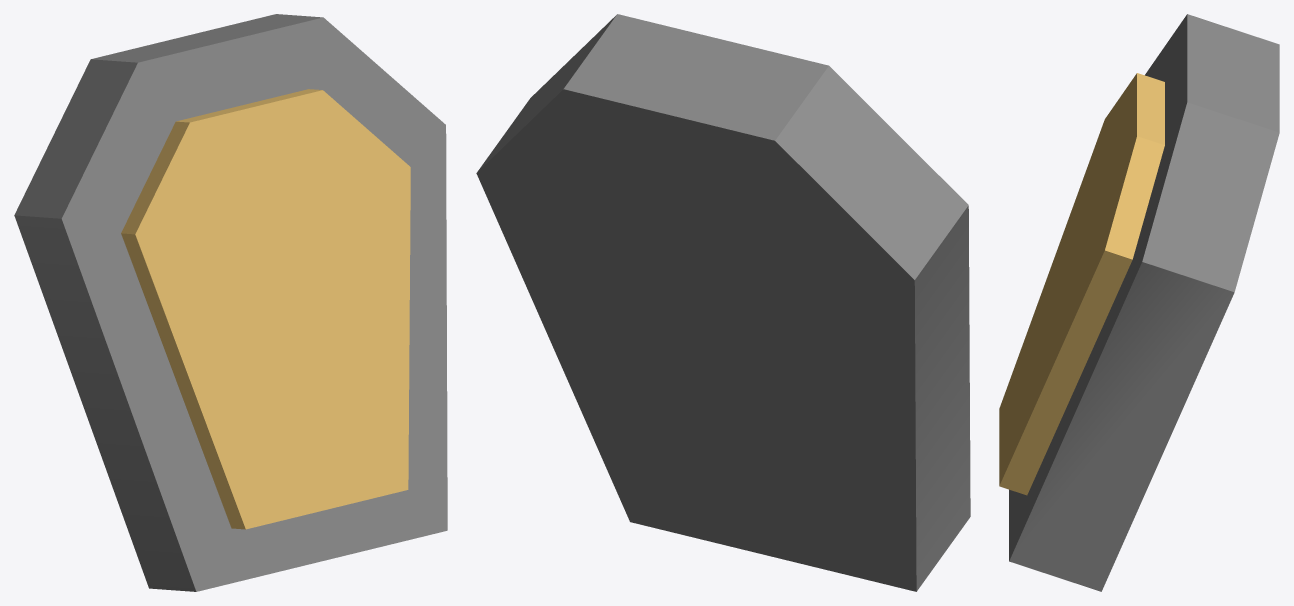
Rendered from Floor Shield 01.FBX.
3 views of the same model, side by side, from view 1: azimuth 30°, elevation 25°; view 2: azimuth 150°, elevation 25°; view 3: azimuth 270°, elevation 25° (orthographic). The views are drawn at different scales.
Parts seen in each view (by area): view 1: Floor Shield 01; view 2: Floor Shield 01; view 3: Floor Shield 01.
Boxes of the visible parts, x1=… form: Floor Shield 01: x1=14, y1=14, x2=447, y2=591; Floor Shield 01: x1=476, y1=14, x2=970, y2=591; Floor Shield 01: x1=999, y1=14, x2=1279, y2=591.
Size of the model in its own units: 46.79 by 56.49 by 30.29.
